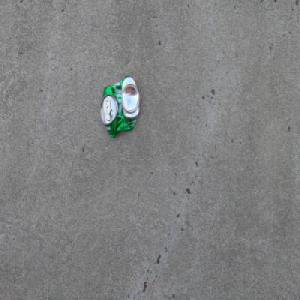SodaCan: (100, 74, 140, 138)
